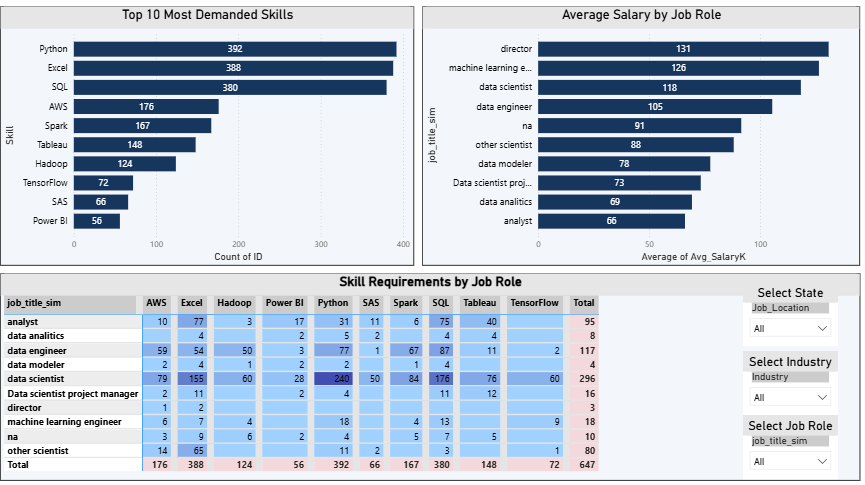

The dashboard page shown, as its layout file describes it:
{"tool":"powerbi","page":{"name":"Skills & Job Roles","canvas":[1280,720],"ordinal":2},"visuals":[{"type":"clusteredBarChart","title":"Top 10 Most Demanded Skills","fields":{"Category":["Skills_Analysis.Skill"],"Y":["CountNonNull(Skills_Analysis.ID)"]},"box":[0,14.6,405.4,380.5],"z":0},{"type":"pivotTable","title":"Skill Requirements by Job Role","fields":{"Rows":["Skills_Analysis.job_title_sim"],"Columns":["Skills_Analysis.Skill"],"Values":["Market.Distinct Job Postings"]},"box":[10.2,405.4,604.4,314.6],"z":1000},{"type":"clusteredBarChart","title":"Average Salary by Job Role","fields":{"Category":["Market.job_title_sim"],"Y":["Avg(Market.Avg_SalaryK)"]},"box":[415.6,14.6,422.9,380.5],"z":2000},{"type":"slicer","title":"Select State","fields":{"Values":["Market.Job_Location"]},"box":[1129.8,395.1,139,93.7],"z":3000},{"type":"slicer","title":"Select Industry","fields":{"Values":["Market.Industry"]},"box":[1129.8,499,139,93.7],"z":4000},{"type":"slicer","title":"Select Job Role","fields":{"Values":["Market.job_title_sim"]},"box":[1129.8,616.1,139,93.7],"z":5000},{"type":"tableEx","title":"Salary Statistics by Job Role","fields":{"Values":["Market.job_title_sim","Market.Avg_SalaryK","Market.Median Salary","Market.Salary Record Count","Market.Salary Std Deviation"]},"box":[627.8,405.4,490.2,314.6],"z":6000},{"type":"clusteredBarChart","title":"Average vs Median Salary by Job Role","fields":{"Category":["Market.job_title_sim"],"Y":["Avg(Market.Avg_SalaryK)","Market.Median Salary"]},"box":[845.9,14.6,422.9,380.5],"z":7000}]}

Visuals, with their boxes in screenshot pixels (x1, y1, x2, y2), scaled from the page's 1280x720 canvas onto the 865x485 screenshot:
"Top 10 Most Demanded Skills" clusteredBarChart: region(0, 10, 274, 266)
"Skill Requirements by Job Role" pivotTable: region(7, 273, 415, 484)
"Average Salary by Job Role" clusteredBarChart: region(281, 10, 567, 266)
"Select State" slicer: region(763, 266, 857, 329)
"Select Industry" slicer: region(763, 336, 857, 399)
"Select Job Role" slicer: region(763, 415, 857, 478)
"Salary Statistics by Job Role" tableEx: region(424, 273, 756, 484)
"Average vs Median Salary by Job Role" clusteredBarChart: region(572, 10, 857, 266)
